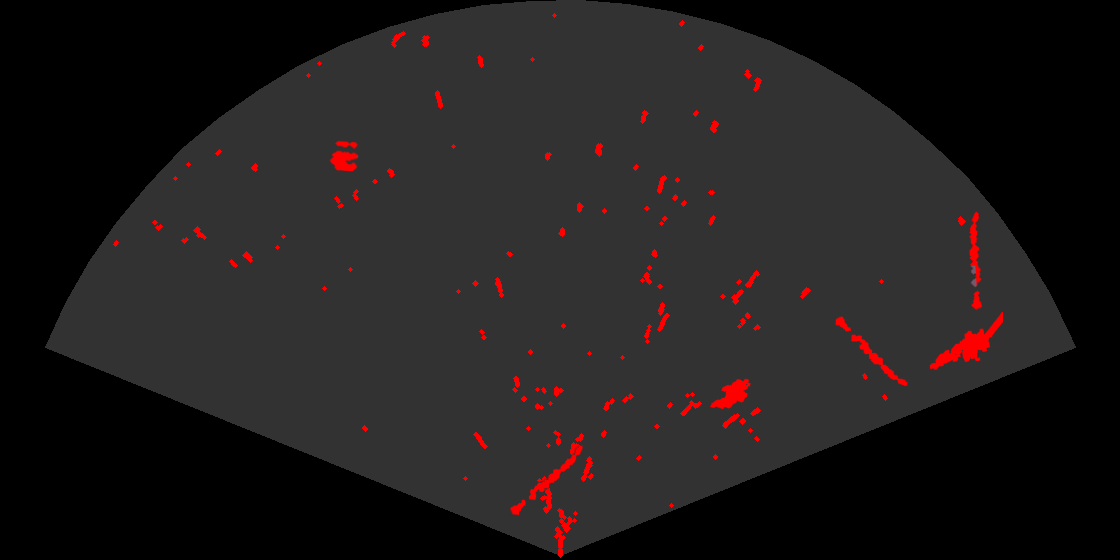AUV: (708, 377, 752, 411)
ball: (328, 139, 360, 173)
chain: (834, 315, 909, 388), (509, 444, 584, 517), (968, 210, 984, 311)
frogman: (928, 312, 1003, 372)
